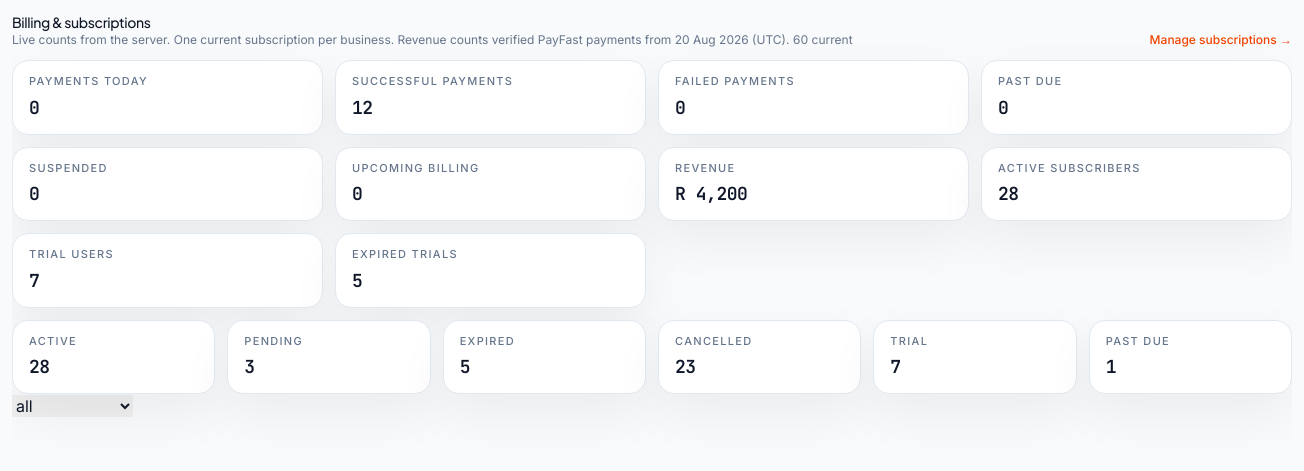
cards drive the shared filter state › clicking Active Subscribers sets the filter to active and syncs the dropdown
Click the button "Active Subscribers 28": x=1069, y=168 [981,146,1292,221]
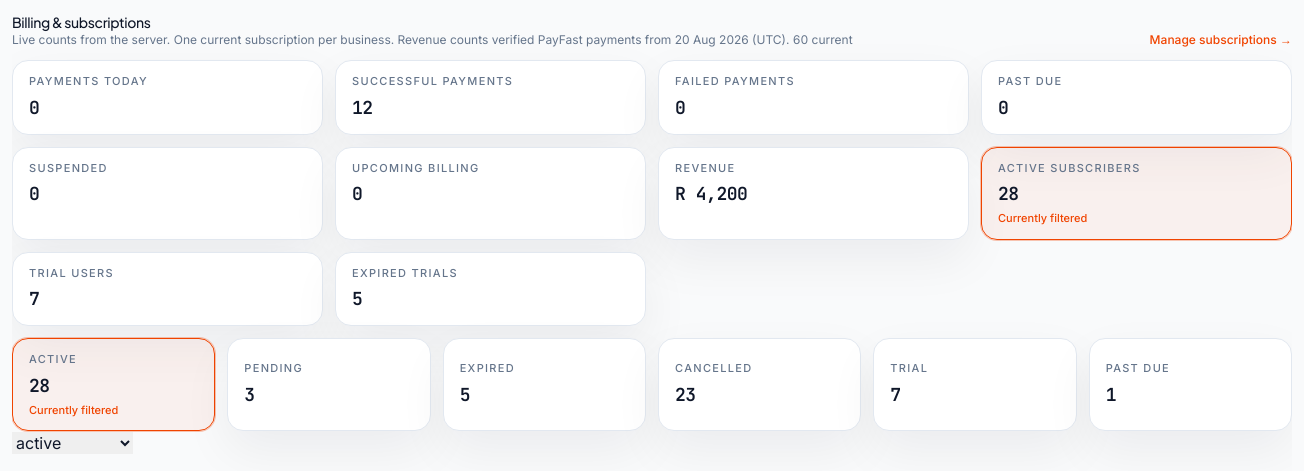
Result: the dropdown with test id "status-dropdown" shows "active" at [12,432,133,454]
